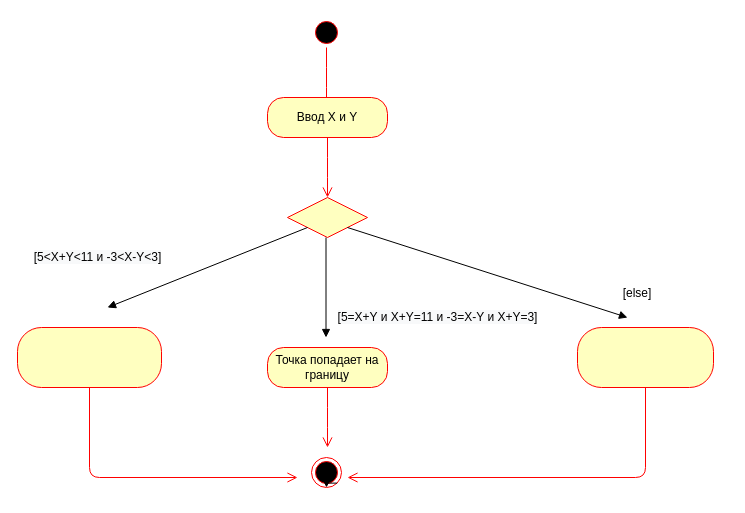
The diagram is 745 pixels wide and 513 high, and some of its shapes have lost their labels. Here are the shapes that lost their labels. From the top down, the centre of each, then its label:
At [89,357]: "Точка попадает в заштрихованную область".
At [645,357]: "Точка не попадает в заштрихованную область или на границу".
